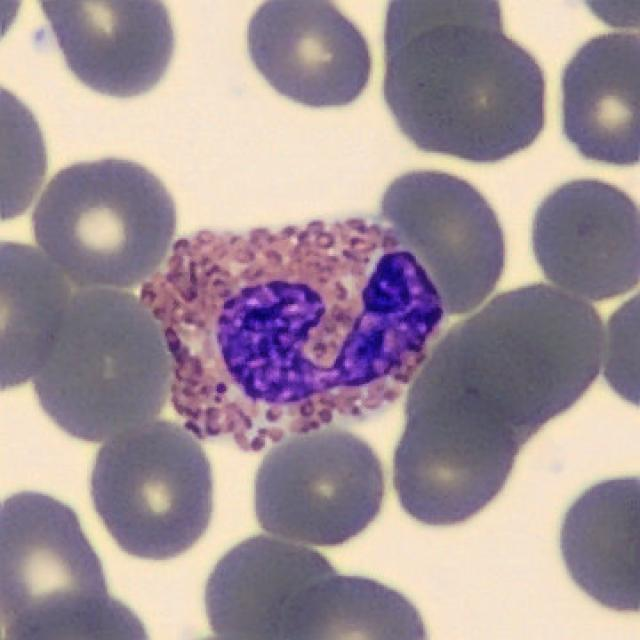Eosinofilo: (140, 219, 446, 453)
